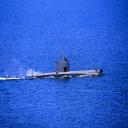submarine: (3, 59, 104, 77)
